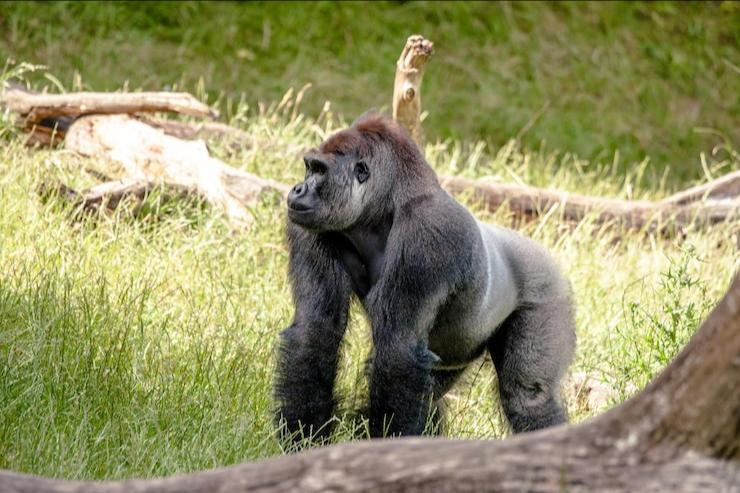gorille_Autres: (276, 112, 612, 458)
